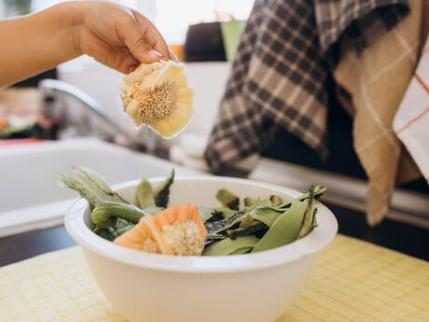organic: (63, 162, 319, 256), (121, 55, 196, 137), (114, 202, 207, 256)
